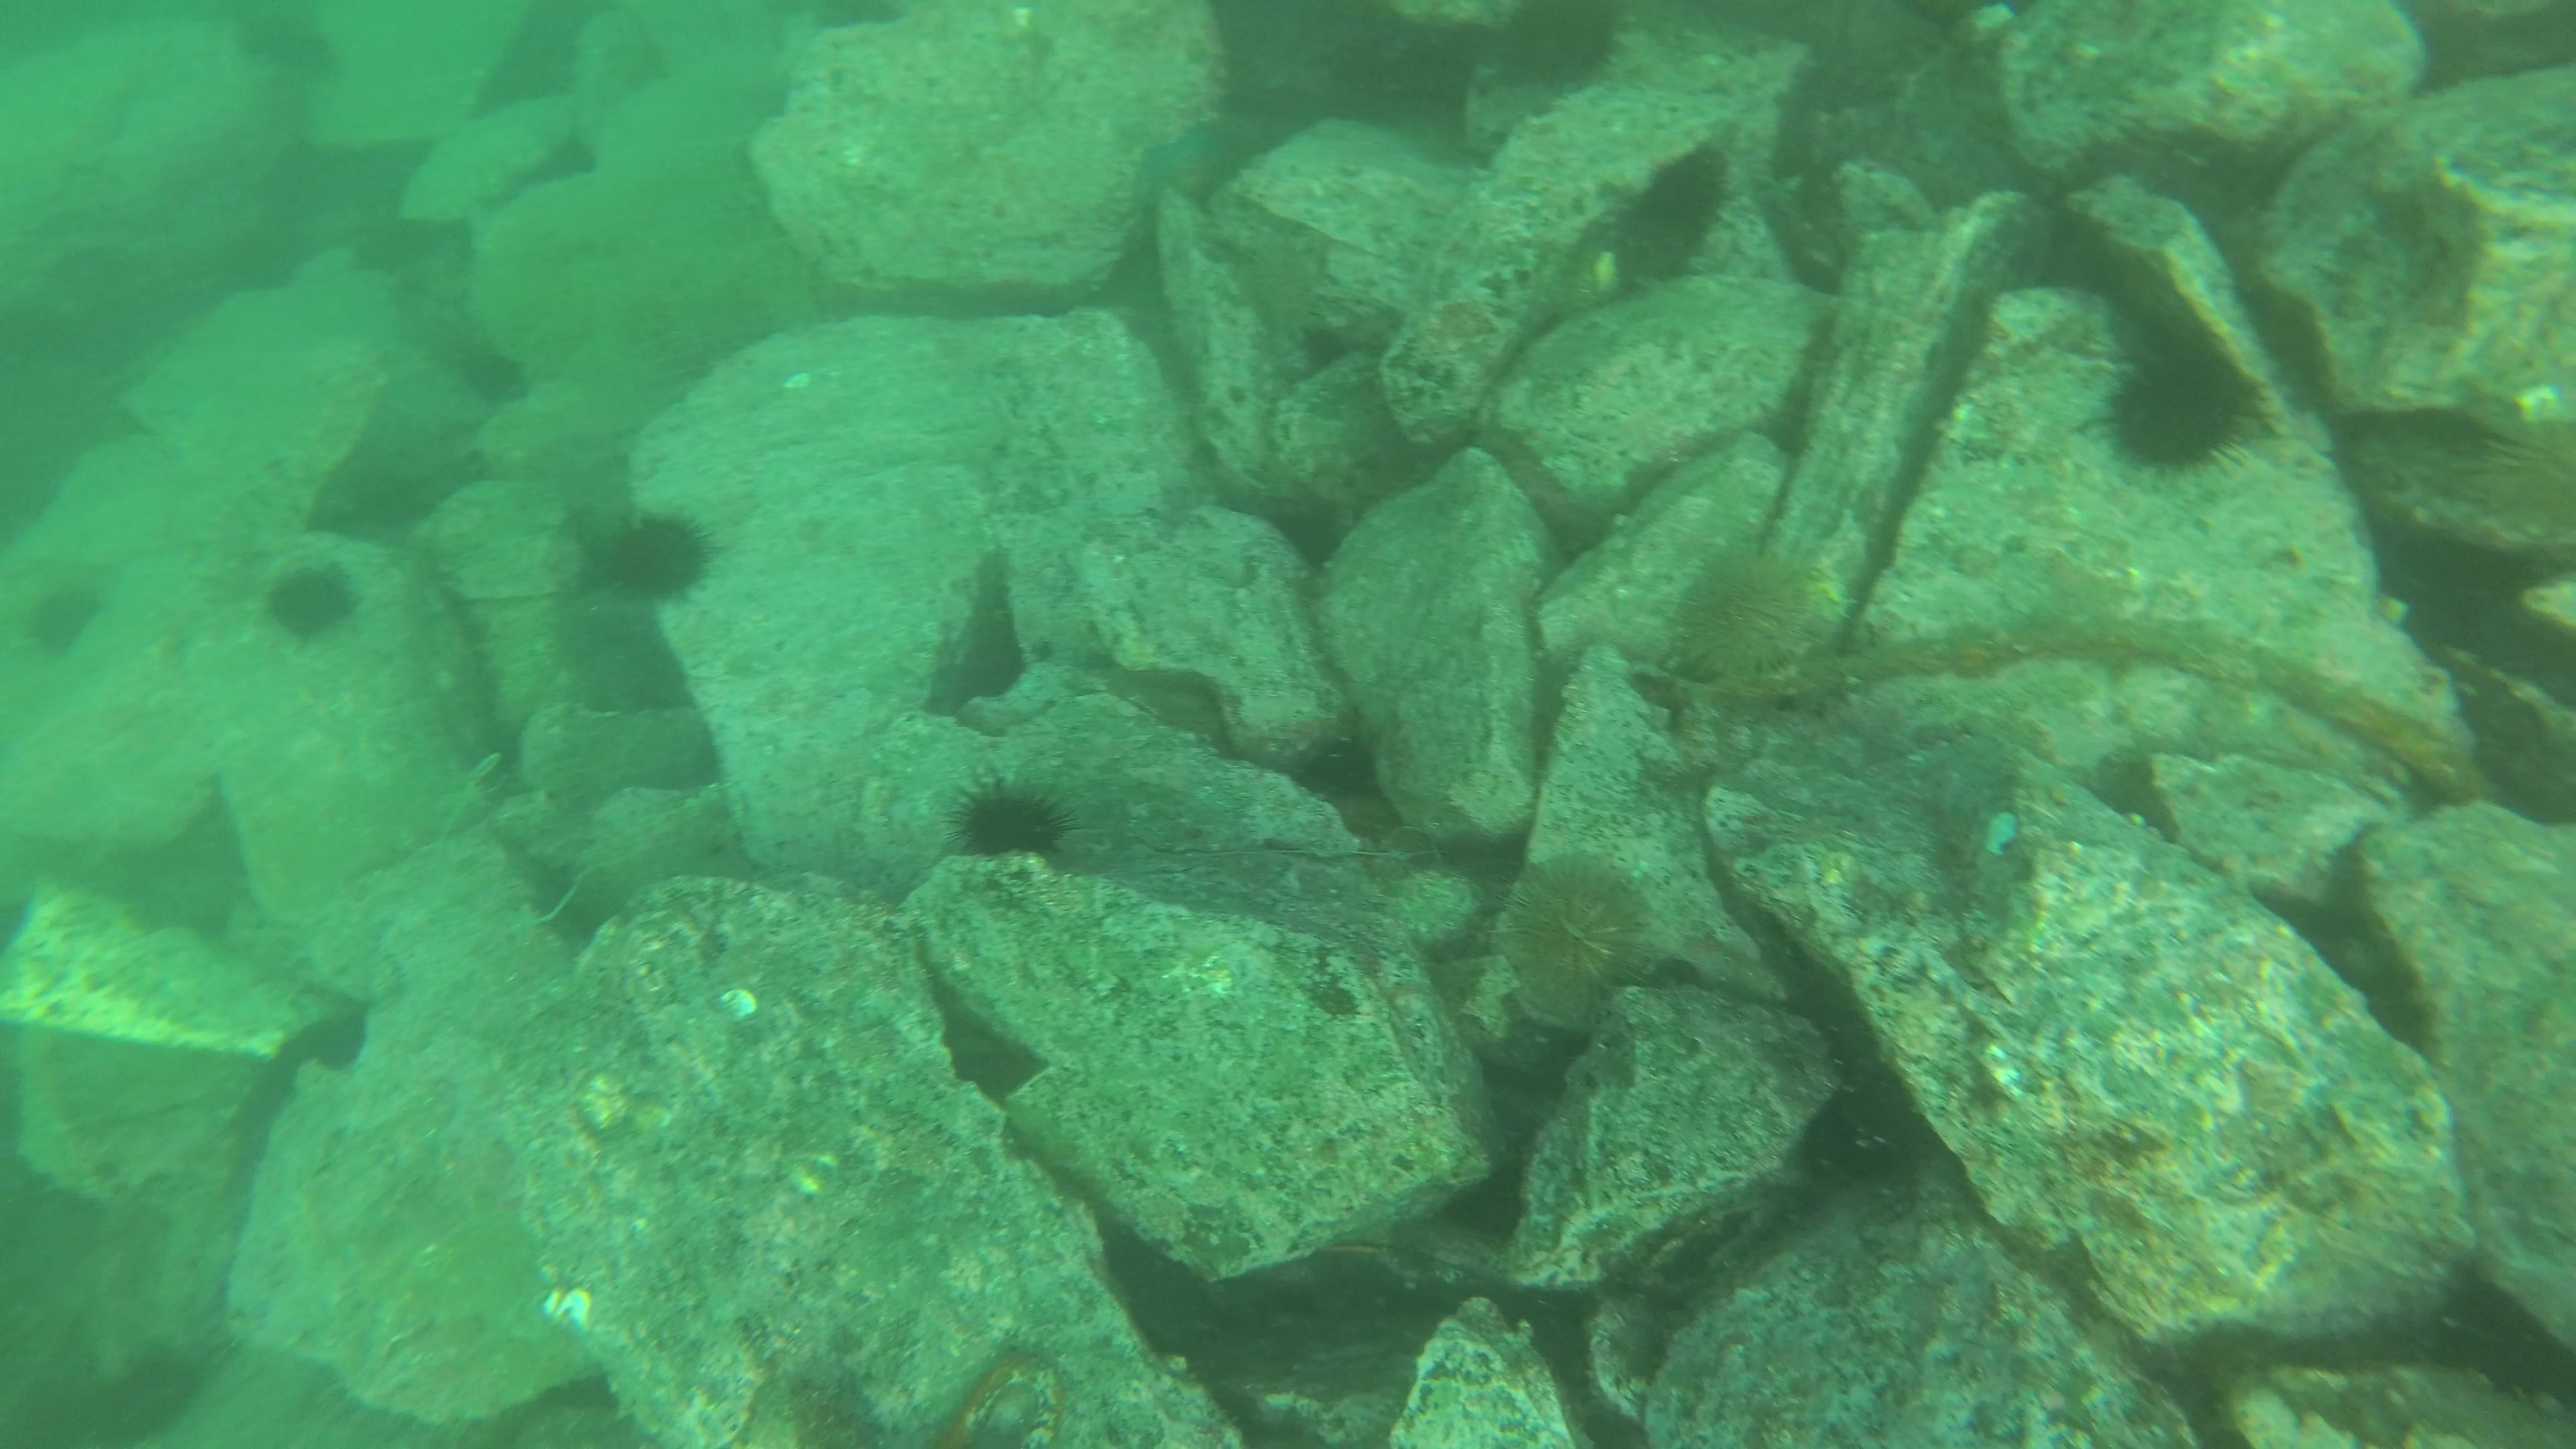echinus: (1504, 865, 1638, 1008), (1679, 550, 1806, 676), (2105, 361, 2240, 476), (594, 513, 717, 602), (948, 780, 1072, 867), (1642, 156, 1723, 249), (271, 564, 366, 642), (455, 345, 536, 412), (32, 591, 103, 658)
